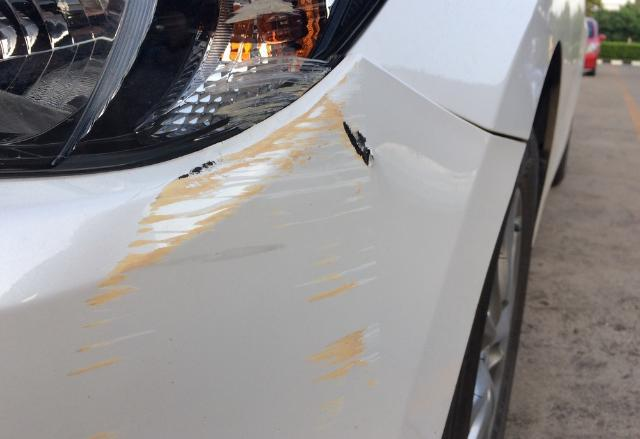scratch: (69, 61, 390, 439), (202, 0, 333, 130)
